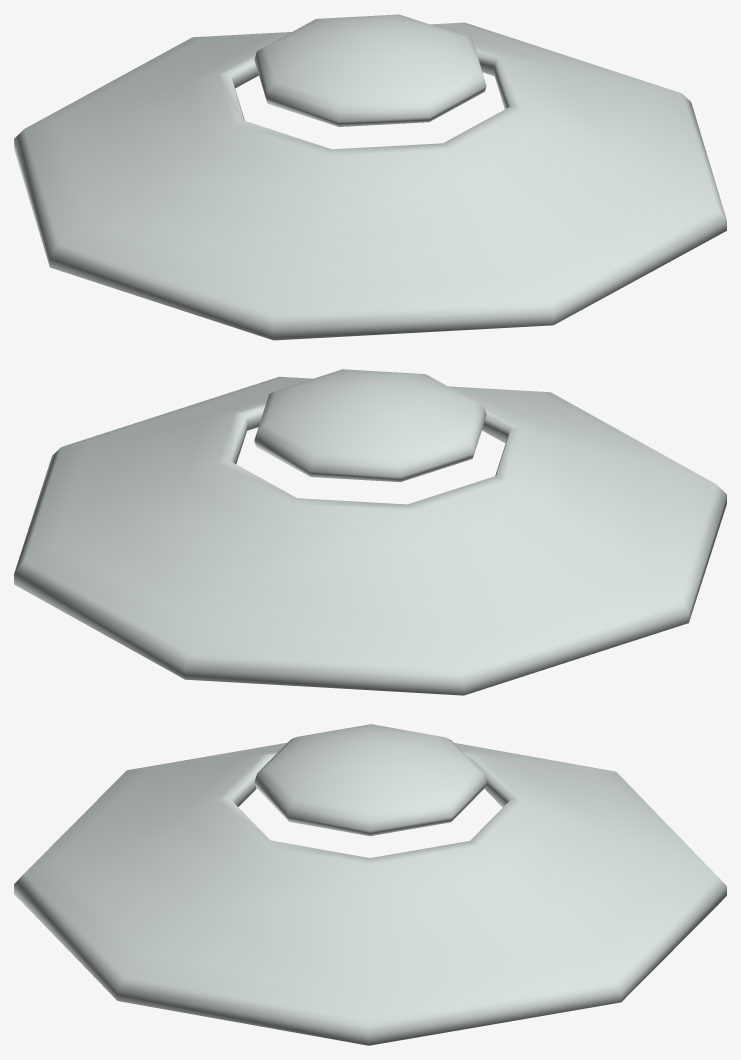
The model's file is prefab_snow_001.fbx.
3 views of the same model, one above another, from view 1: azimuth 30°, elevation 25°; view 2: azimuth 150°, elevation 25°; view 3: azimuth 270°, elevation 25° (orthographic). The views are drawn at different scales.
Visible parts, largest first — view 1: prefab_snow_001; view 2: prefab_snow_001; view 3: prefab_snow_001.
Boxes of the visible parts, x1,y1,x2,y2 form: prefab_snow_001: (14,14,726,340); prefab_snow_001: (14,369,726,695); prefab_snow_001: (14,724,726,1045).
Bounding box in the file's own units: 172 × 40.7 × 172.
